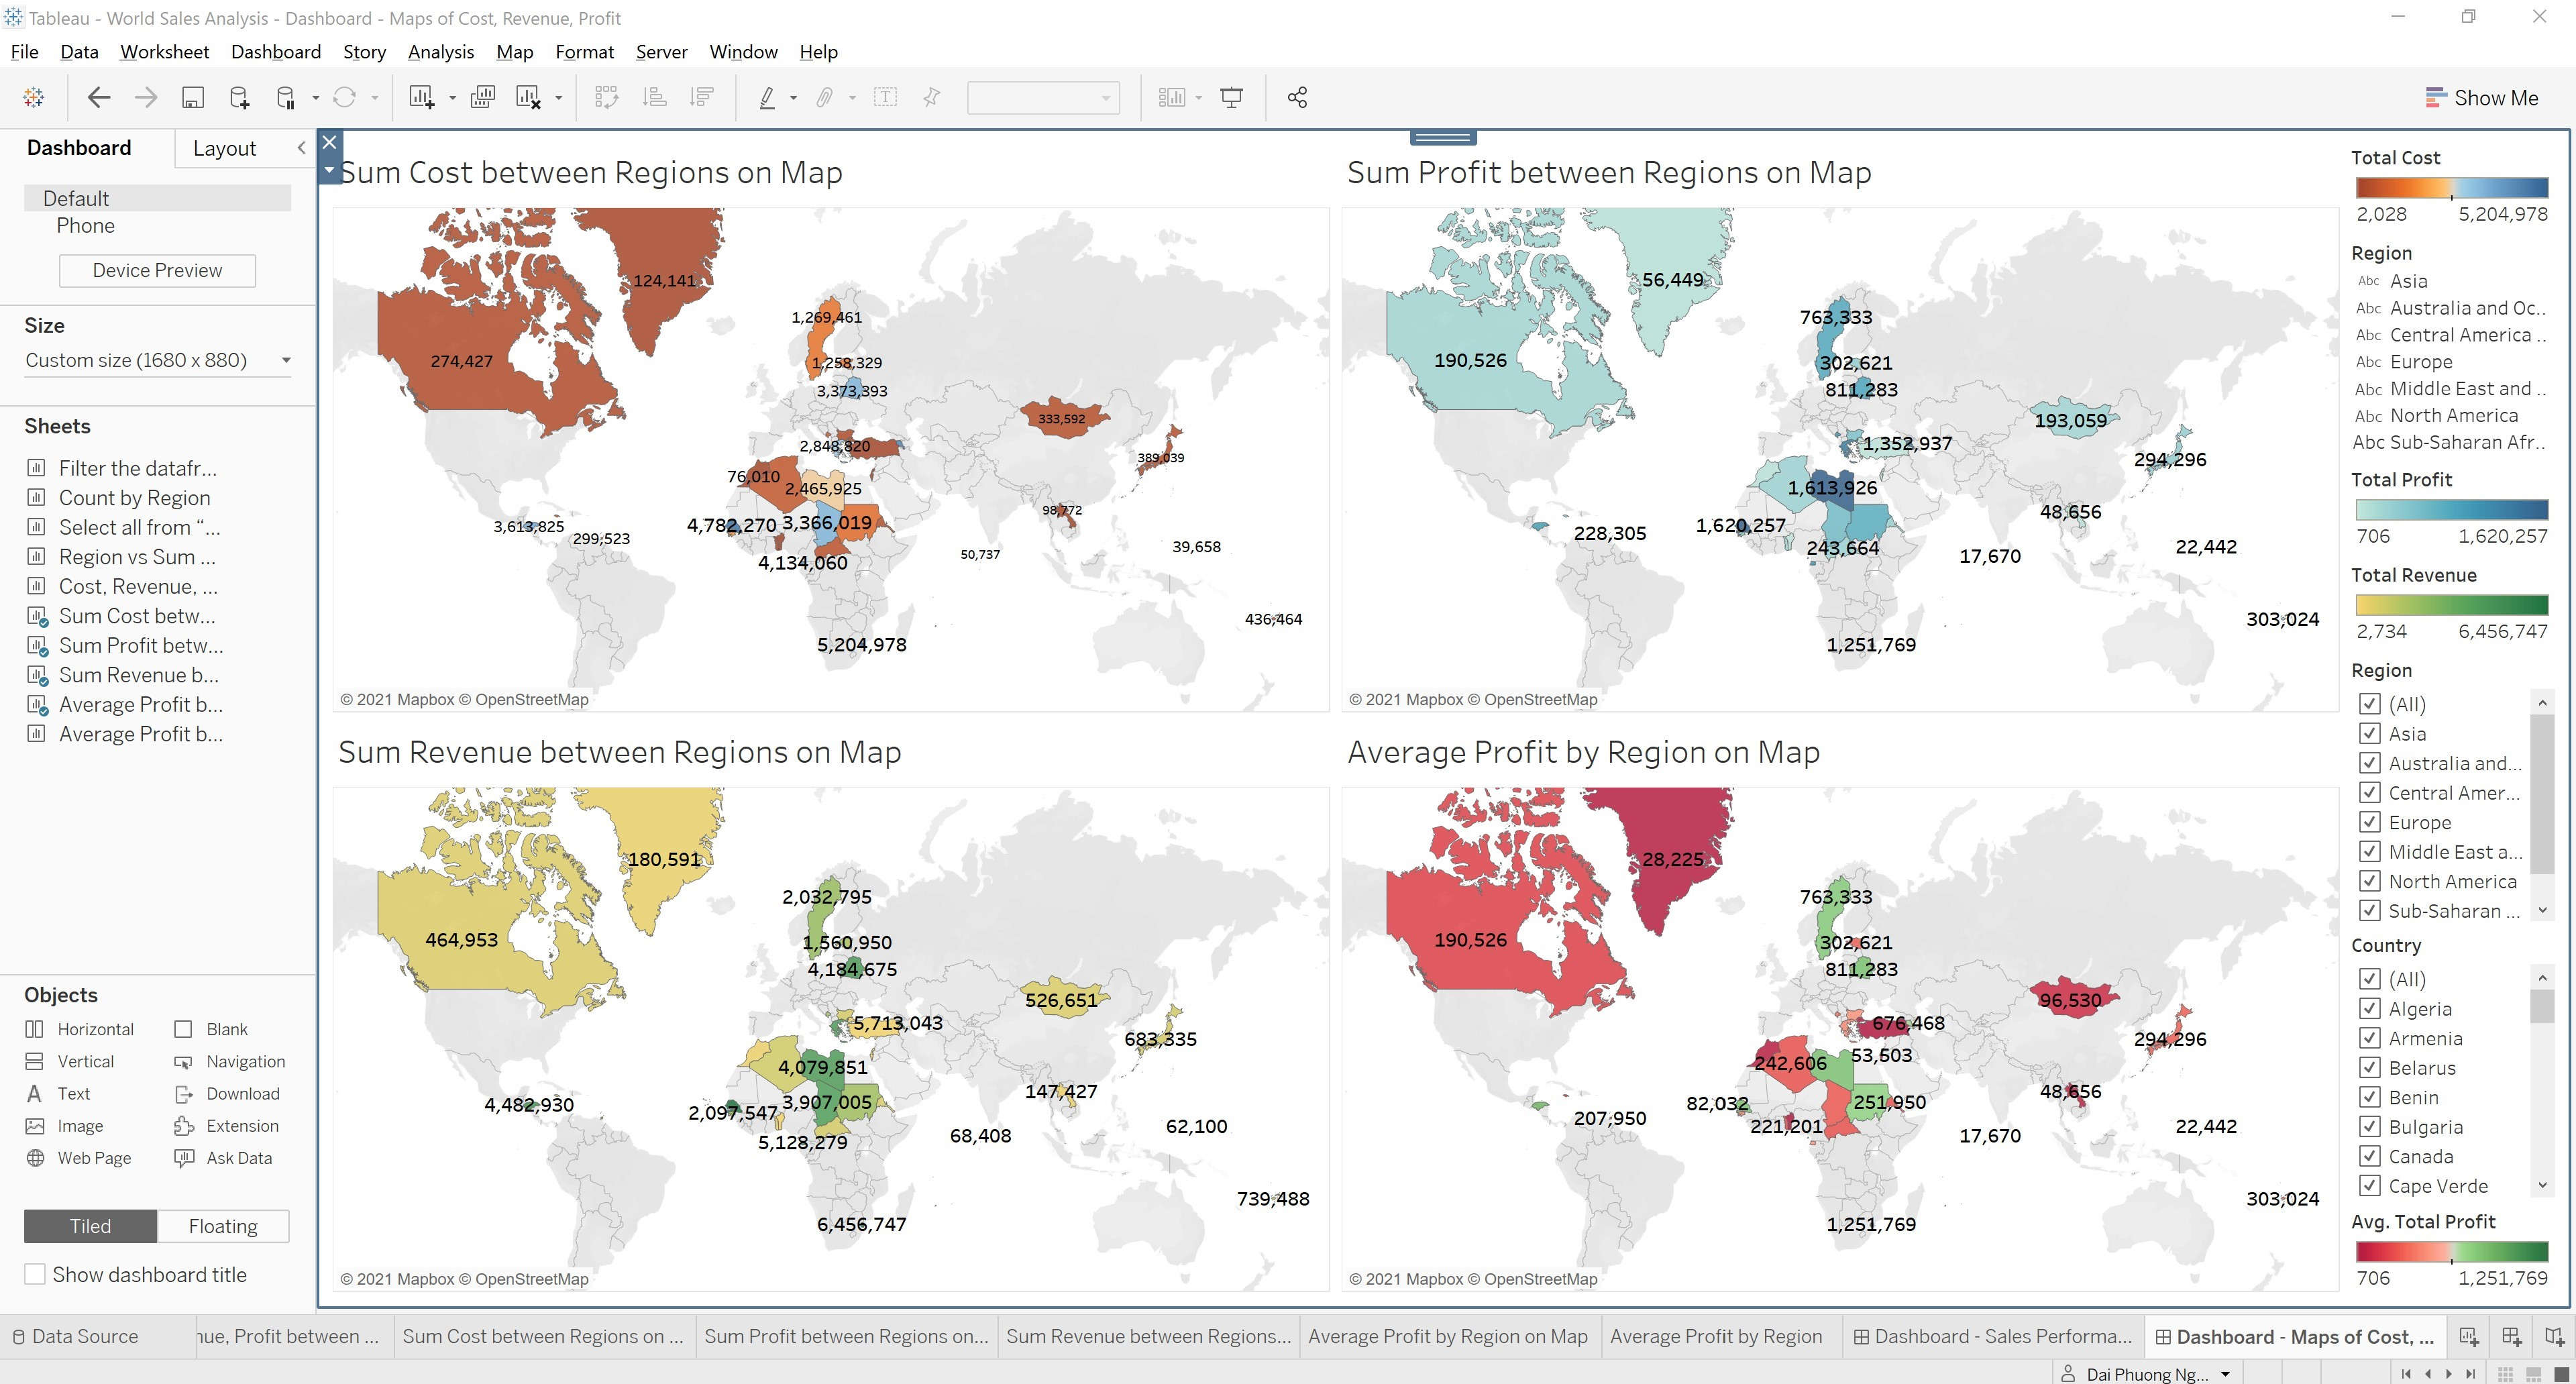

Layout of this report page (visuals, bound fields, positions):
{"tool":"tableau","page":{"name":"Dashboard - Maps of Cost, Revenue, Profit","canvas":[1680,880],"ordinal":0},"visuals":[{"type":"worksheet","title":"Sum Cost between Regions on Map","mark":"Multipolygon","box":[8,8,752,432]},{"type":"worksheet","title":"Sum Profit between Regions on Map","mark":"Multipolygon","box":[760,8,752,432]},{"type":"legend","title":"Sum Cost between Regions on Map","param":"[federated.0zfqg961lk8p1z1b4xt3s0auii42].[sum:Total_Cost:qk]","box":[1512,8,160,71]},{"type":"legend","title":"Sum Cost between Regions on Map","param":"[federated.0zfqg961lk8p1z1b4xt3s0auii42].[none:Region:nk]","box":[1512,79,160,169]},{"type":"legend","title":"Sum Profit between Regions on Map","param":"[federated.0zfqg961lk8p1z1b4xt3s0auii42].[sum:Total_Profit:qk]","box":[1512,248,160,71]},{"type":"legend","title":"Sum Revenue between Regions on Map","param":"[federated.0zfqg961lk8p1z1b4xt3s0auii42].[sum:Total_Revenue:qk]","box":[1512,319,160,71]},{"type":"filter","title":"Average Profit by Region on Map","param":"[federated.0zfqg961lk8p1z1b4xt3s0auii42].[none:Region:nk]","box":[1512,390,160,205.5]},{"type":"worksheet","title":"Sum Revenue between Regions on Map","mark":"Multipolygon","box":[8,440,752,432]},{"type":"worksheet","title":"Average Profit by Region on Map","mark":"Multipolygon","box":[760,440,752,432]},{"type":"filter","title":"Average Profit by Region on Map","param":"[federated.0zfqg961lk8p1z1b4xt3s0auii42].[none:Country:nk]","box":[1512,595.5,160,205.5]},{"type":"legend","title":"Average Profit by Region on Map","param":"[federated.0zfqg961lk8p1z1b4xt3s0auii42].[avg:Total_Profit:qk]","box":[1512,801,160,71]}]}

Visuals, with their boxes on the page's 1680x880 design canvas (x1, y1, x2, y2). These are canvas units, not pixel positions in the 2576x1384 screenshot, which may show the page scaled, cropped or inside an application window:
"Sum Cost between Regions on Map" worksheet (Multipolygon marks): <bbox>8, 8, 760, 440</bbox>
"Sum Profit between Regions on Map" worksheet (Multipolygon marks): <bbox>760, 8, 1512, 440</bbox>
"Sum Cost between Regions on Map" legend: <bbox>1512, 8, 1672, 79</bbox>
"Sum Cost between Regions on Map" legend: <bbox>1512, 79, 1672, 248</bbox>
"Sum Profit between Regions on Map" legend: <bbox>1512, 248, 1672, 319</bbox>
"Sum Revenue between Regions on Map" legend: <bbox>1512, 319, 1672, 390</bbox>
"Average Profit by Region on Map" filter: <bbox>1512, 390, 1672, 596</bbox>
"Sum Revenue between Regions on Map" worksheet (Multipolygon marks): <bbox>8, 440, 760, 872</bbox>
"Average Profit by Region on Map" worksheet (Multipolygon marks): <bbox>760, 440, 1512, 872</bbox>
"Average Profit by Region on Map" filter: <bbox>1512, 596, 1672, 801</bbox>
"Average Profit by Region on Map" legend: <bbox>1512, 801, 1672, 872</bbox>
